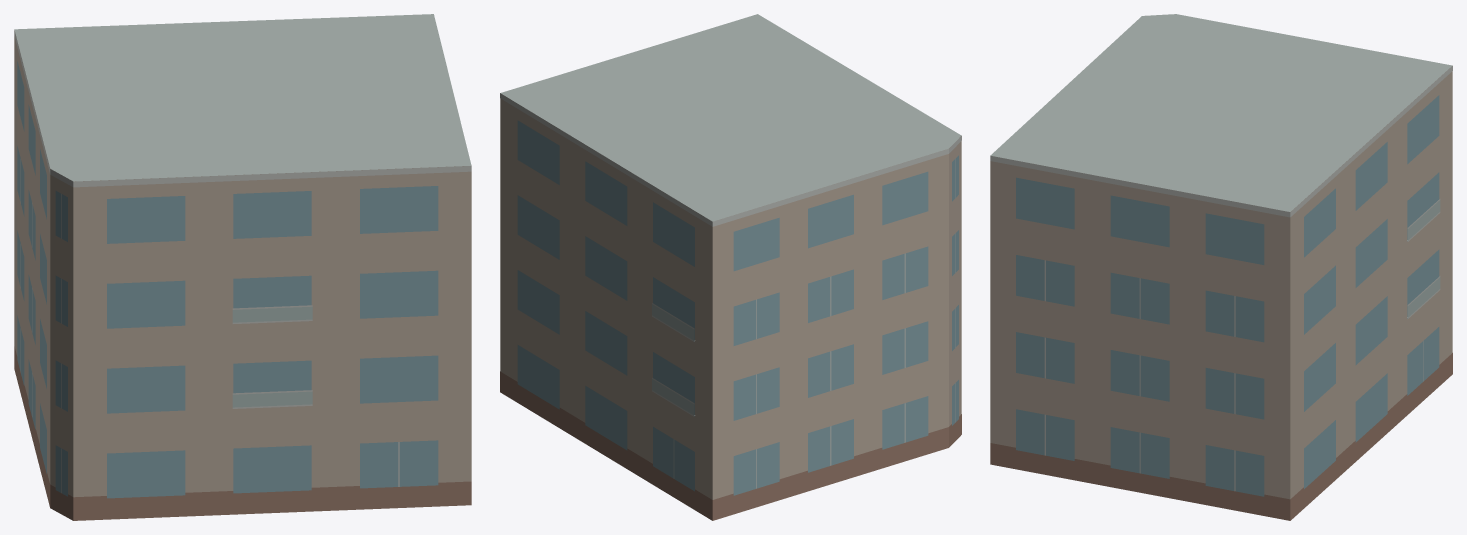
File: survey-upis-32862309.glb
3 renders of one model, left to right at view 1: azimuth 30°, elevation 25°; view 2: azimuth 150°, elevation 25°; view 3: azimuth 270°, elevation 25°, orthographic. The views are drawn at different scales.
Visible parts, largest first — view 1: survey-upis-32862309.tmp; view 2: survey-upis-32862309.tmp; view 3: survey-upis-32862309.tmp.
Part boxes in pixels (x1=…): survey-upis-32862309.tmp: x1=14, y1=14, x2=471, y2=520; survey-upis-32862309.tmp: x1=500, y1=14, x2=961, y2=520; survey-upis-32862309.tmp: x1=990, y1=14, x2=1452, y2=520.
Bounding box in the file's own units: 19.3 × 14.02 × 19.04.
